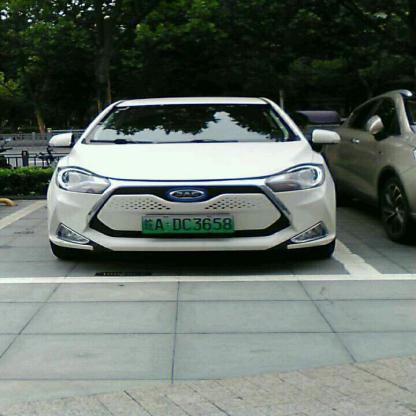lp: (142, 214, 234, 232)
